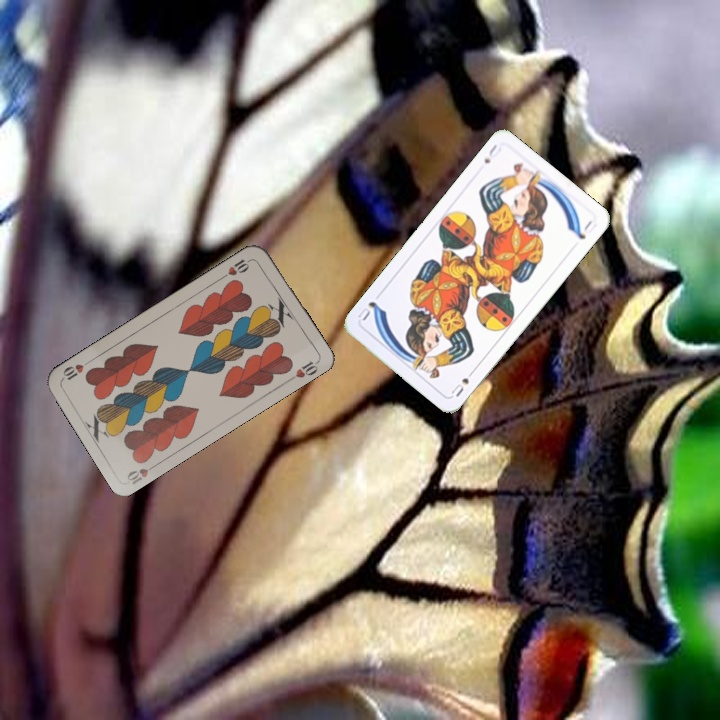H10: (123, 459, 161, 487), (218, 254, 255, 281)
SU: (447, 364, 478, 399), (480, 139, 504, 166)
